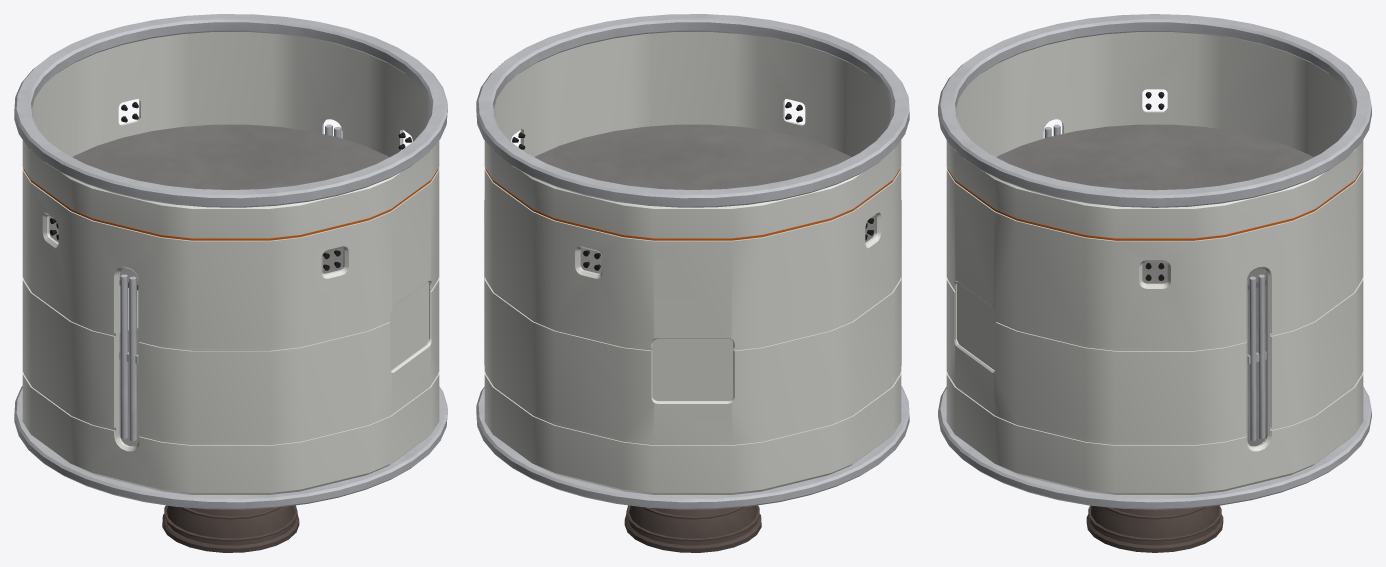
Rendered from ax_cmd_13_service_module.glb.
The picture shows the model from 3 angles, left to right: view 1: azimuth 30°, elevation 25°; view 2: azimuth 150°, elevation 25°; view 3: azimuth 270°, elevation 25°; orthographic projection.
Visible parts, largest first — view 1: shell, interface_rings, decks, nozzle_extension, raceway_lines, extension_hoops, orange_stripes; view 2: shell, interface_rings, decks, nozzle_extension, extension_hoops, orange_stripes; view 3: shell, interface_rings, decks, nozzle_extension, raceway_lines, extension_hoops, orange_stripes.
Boxes of the visible parts, bbox=[...] form: shell: bbox=[22, 32, 439, 494]; interface_rings: bbox=[14, 14, 447, 509]; decks: bbox=[49, 124, 389, 446]; nozzle_extension: bbox=[167, 505, 296, 545]; raceway_lines: bbox=[119, 124, 341, 440]; extension_hoops: bbox=[162, 505, 299, 552]; orange_stripes: bbox=[23, 168, 438, 240]; shell: bbox=[484, 32, 901, 494]; interface_rings: bbox=[476, 14, 909, 509]; decks: bbox=[534, 124, 874, 273]; nozzle_extension: bbox=[627, 505, 756, 545]; extension_hoops: bbox=[624, 505, 761, 552]; orange_stripes: bbox=[485, 168, 900, 240]; shell: bbox=[946, 32, 1363, 494]; interface_rings: bbox=[938, 14, 1371, 509]; decks: bbox=[996, 124, 1313, 446]; nozzle_extension: bbox=[1089, 506, 1220, 545]; raceway_lines: bbox=[1044, 124, 1266, 440]; extension_hoops: bbox=[1086, 505, 1223, 552]; orange_stripes: bbox=[947, 168, 1362, 240].
Size of the model in its own units: 3.75 by 4 by 3.75.
7 materials, 4 textured.
